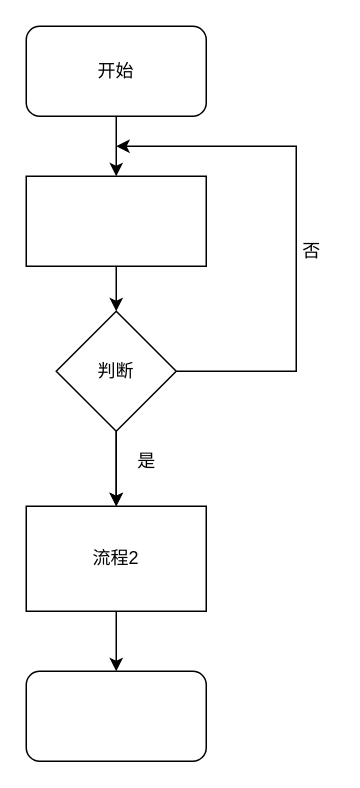
Some shapes in this 360 by 788 pixel diagram are drawn without their labels. Here are the shapes that lost their labels. From the top down, the centre of each, then its label:
(115,220): 流程1
(115,715): 结束
